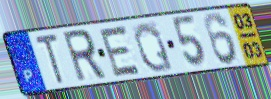5: (169, 13, 208, 70)
6: (203, 11, 241, 67)
E: (97, 23, 144, 79)
Q: (132, 20, 176, 74)
R: (60, 28, 110, 85)
T: (33, 33, 67, 87)
